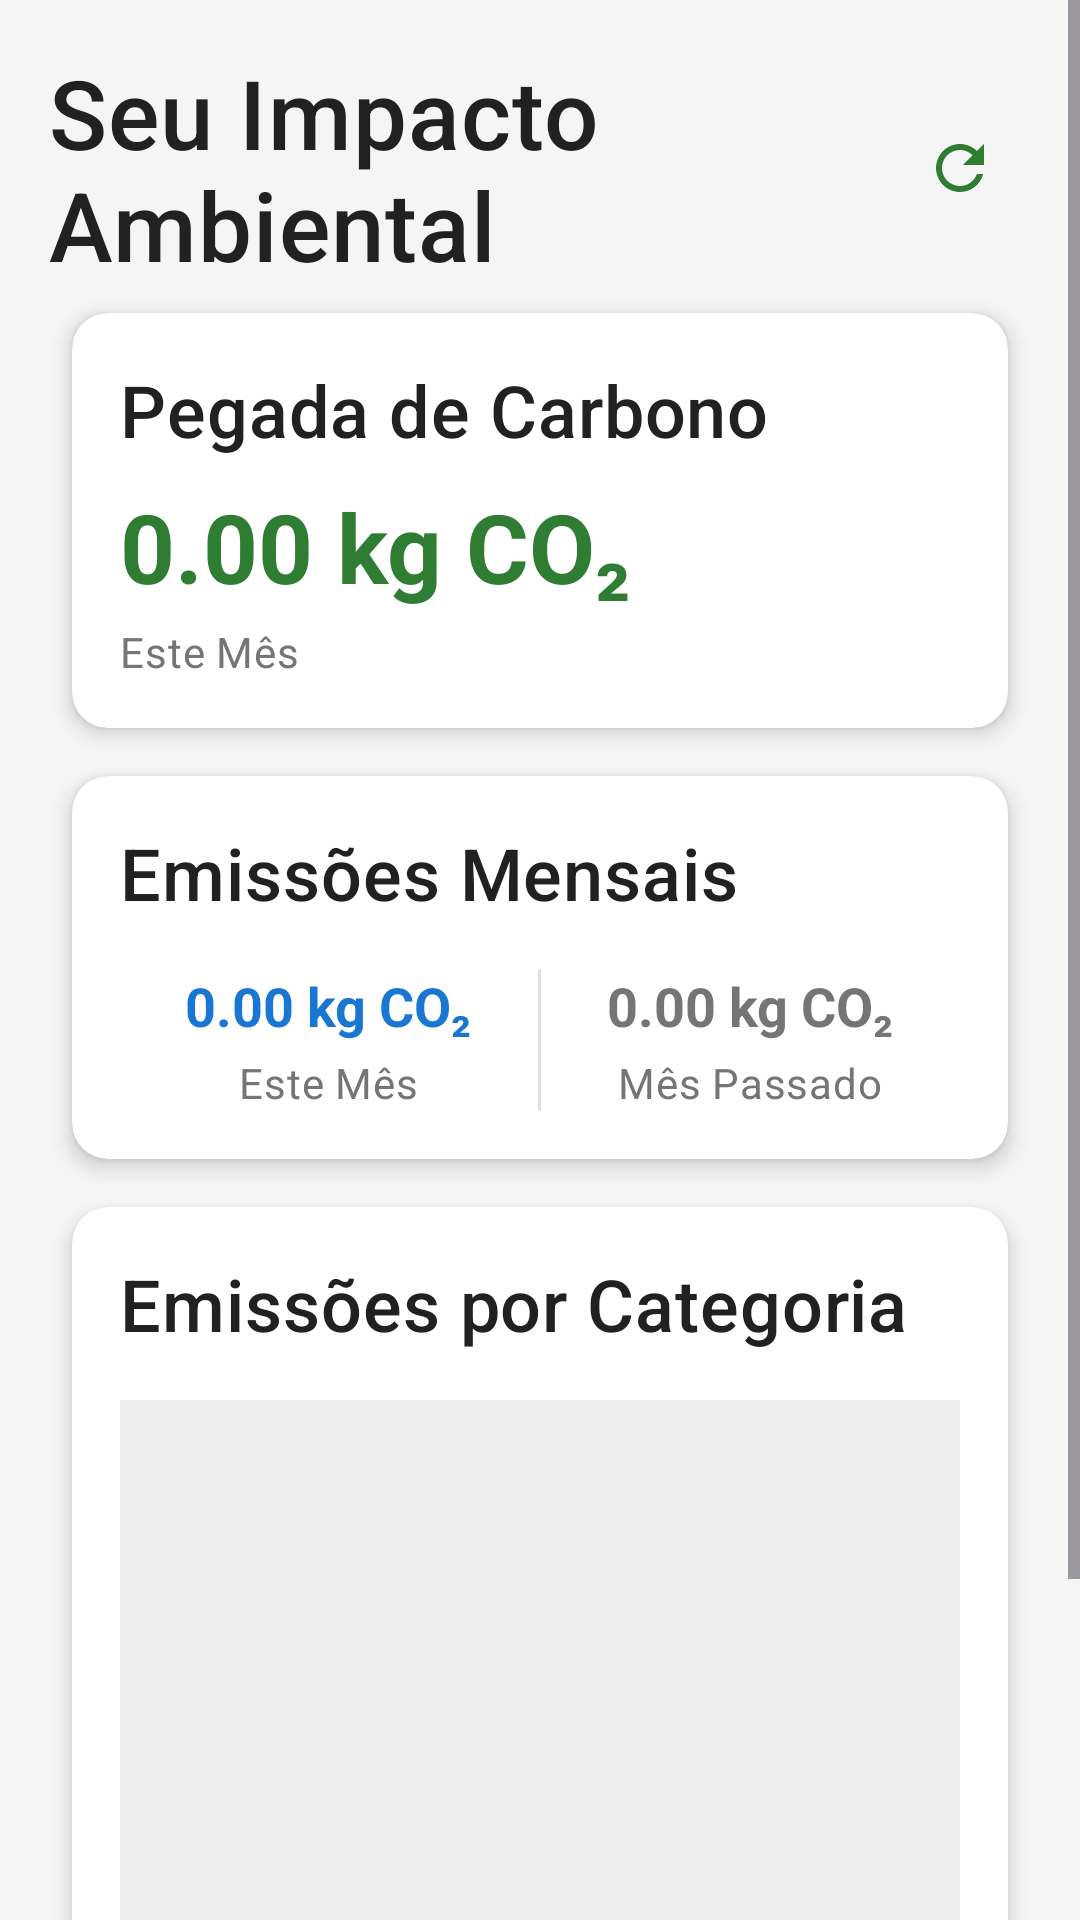

Named icons in this screenshot (1080 × 1920) and their bounding boxes, (x1, y1, x2, y2):
Atualizar: (936, 144, 984, 192)
